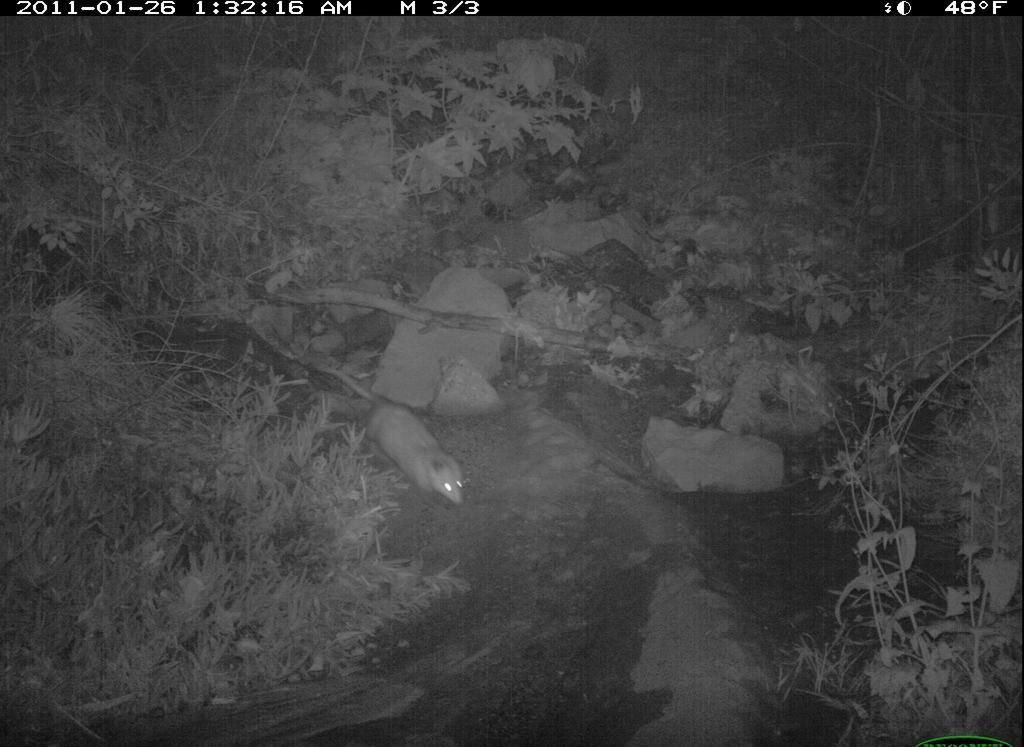opossum: (317, 353, 484, 520)
